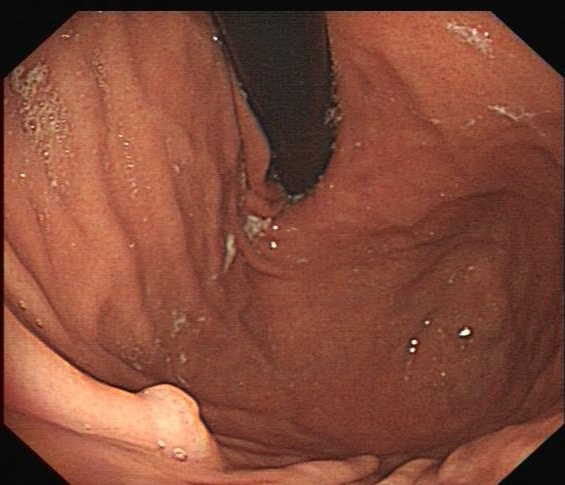Polyp: (136, 380, 215, 452)
